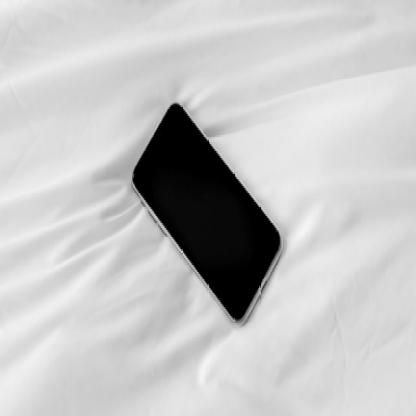cell-phone: (126, 93, 284, 330)
